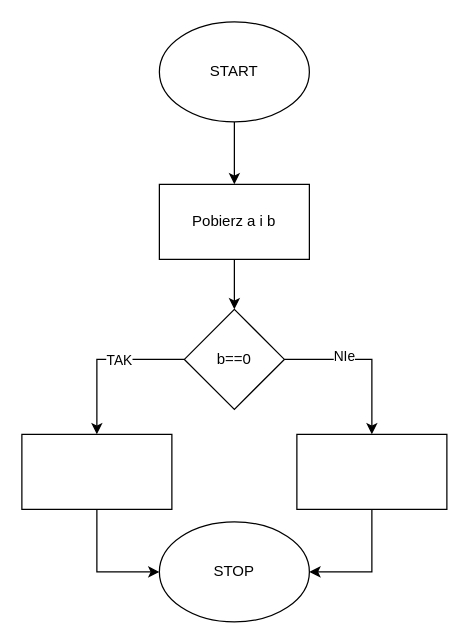
This 469x644 diagram has some shape labels left out. The centre of each missing label's shape, as x and y in pixels:
a/b: the point at 371,471
Dzielenie przez 0: the point at 96,471
